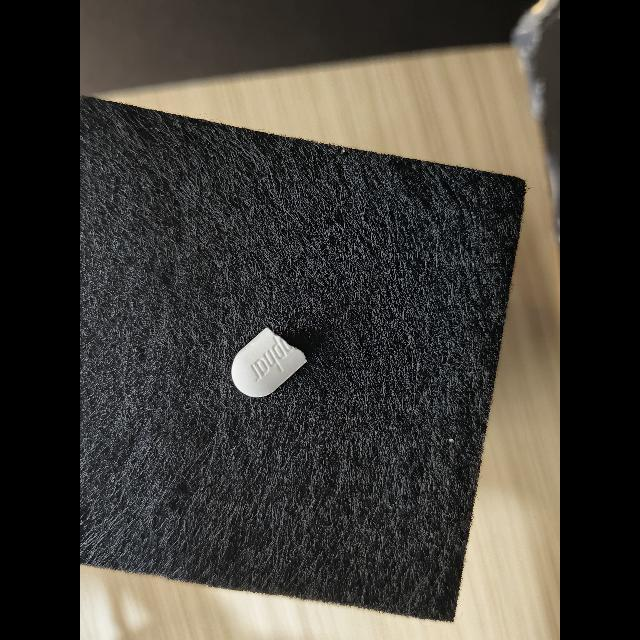Chipped Pill: (231, 328, 307, 398)
